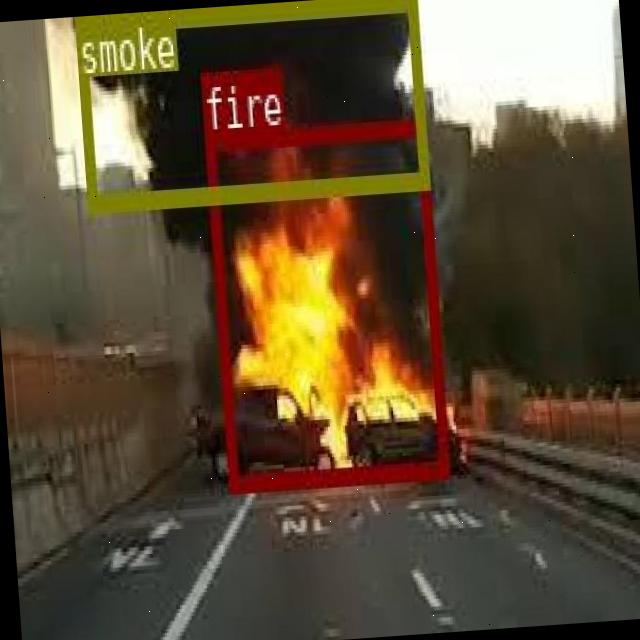fire: (204, 116, 448, 488)
smoke: (71, 0, 426, 210)
